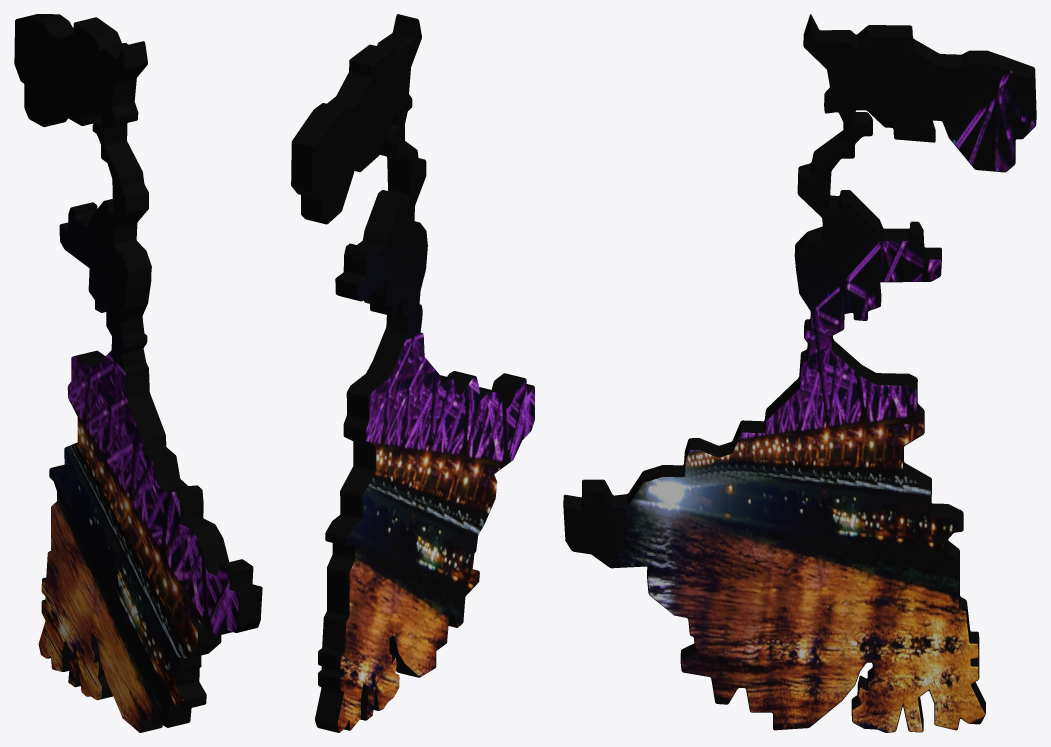
The model's file is west bengal.glb.
3 views of the same model, side by side, from view 1: azimuth 30°, elevation 25°; view 2: azimuth 150°, elevation 25°; view 3: azimuth 270°, elevation 25° (orthographic). The views are drawn at different scales.
Parts seen in each view (by area): view 1: Object_34; view 2: Object_34; view 3: Object_34.
Boxes of the visible parts, left/top/right/bottom form: Object_34: left=14, top=14, right=262, bottom=732; Object_34: left=291, top=14, right=534, bottom=732; Object_34: left=563, top=14, right=1036, bottom=732.
Bounding box in the file's own units: 0.0379 × 0.9156 × 0.5543.
Materials: 1 (1 with a texture image).
